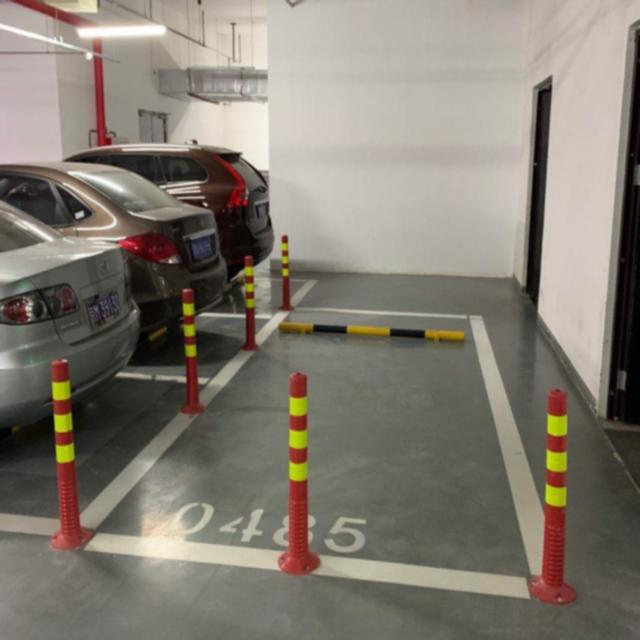car: (2, 160, 228, 351), (0, 200, 141, 428), (83, 138, 274, 269)
warning_column: (528, 387, 578, 608), (276, 370, 320, 574), (44, 358, 90, 550), (179, 286, 204, 416), (240, 254, 258, 349), (278, 232, 293, 310)
